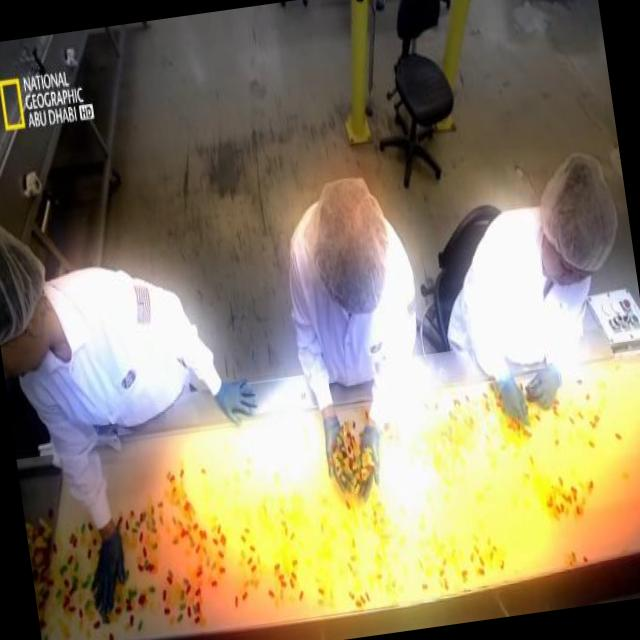hairnet: (310, 170, 394, 302), (538, 152, 623, 277), (0, 212, 51, 337)
